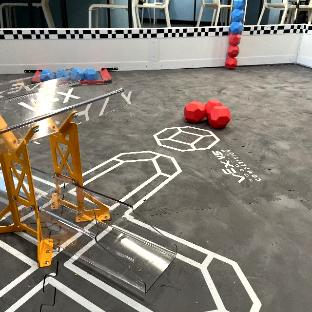V5_BLUE: (230, 0, 244, 31)
V5_RED: (183, 99, 230, 128), (226, 32, 240, 66)
